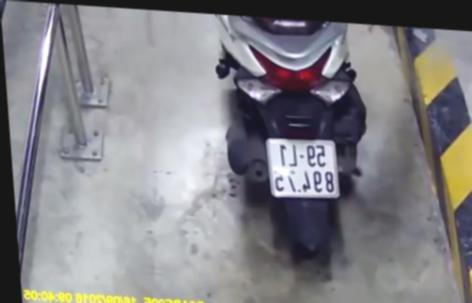License_Plate: (262, 132, 344, 207)
